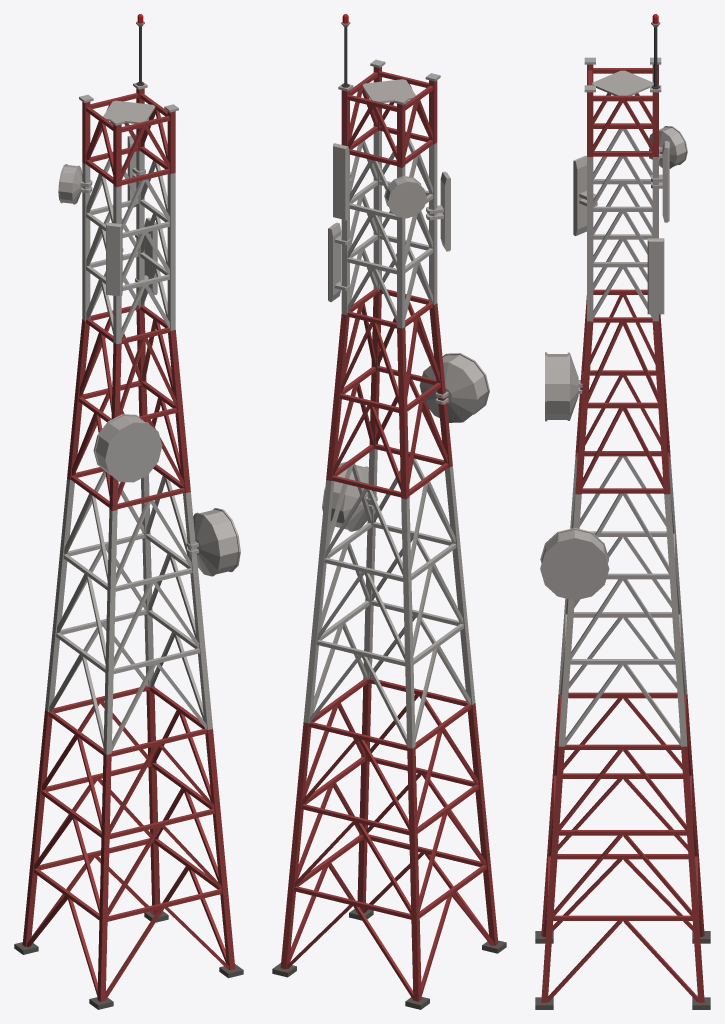
File: SM_Props_Desert_RadioTower.fbx
The picture shows the model from 3 angles, left to right: view 1: azimuth 30°, elevation 25°; view 2: azimuth 150°, elevation 25°; view 3: azimuth 270°, elevation 25°; orthographic projection. The views are drawn at different scales.
Parts seen in each view (by area): view 1: SM_Props_Desert_RadioTower; view 2: SM_Props_Desert_RadioTower; view 3: SM_Props_Desert_RadioTower.
Boxes of the visible parts, x1=… form: SM_Props_Desert_RadioTower: x1=14, y1=14, x2=243, y2=1009; SM_Props_Desert_RadioTower: x1=272, y1=14, x2=506, y2=1009; SM_Props_Desert_RadioTower: x1=535, y1=14, x2=710, y2=1009.
Bounding box in the file's own units: 670 × 4099 × 670.
